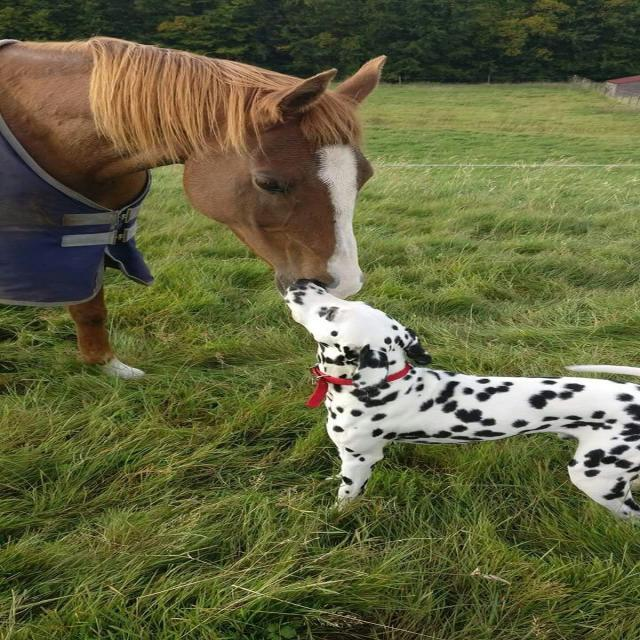Dogs: (275, 278, 640, 536)
